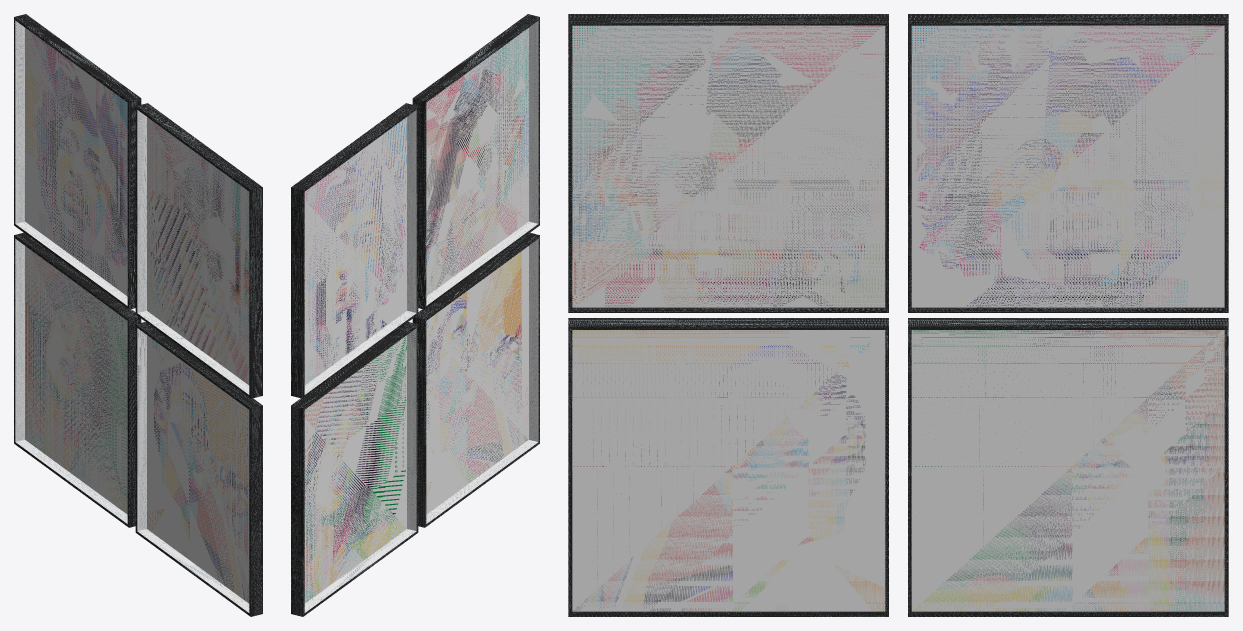
File: art12.dae
3 renders of one model, left to right at view 1: azimuth 30°, elevation 25°; view 2: azimuth 150°, elevation 25°; view 3: azimuth 270°, elevation 25°, orthographic. The views are drawn at different scales.
Parts seen in each view (by area): view 1: group_0 (×12); view 2: group_0 (×12); view 3: group_0 (×12).
Part boxes in pixels (x1=…): group_0 (×12): x1=14, y1=14, x2=262, y2=616; group_0 (×12): x1=291, y1=14, x2=539, y2=616; group_0 (×12): x1=568, y1=14, x2=1228, y2=616.
Bounding box in the file's own units: 0.9843 × 33.23 × 33.03.
Materials: 7 (4 with a texture image).
